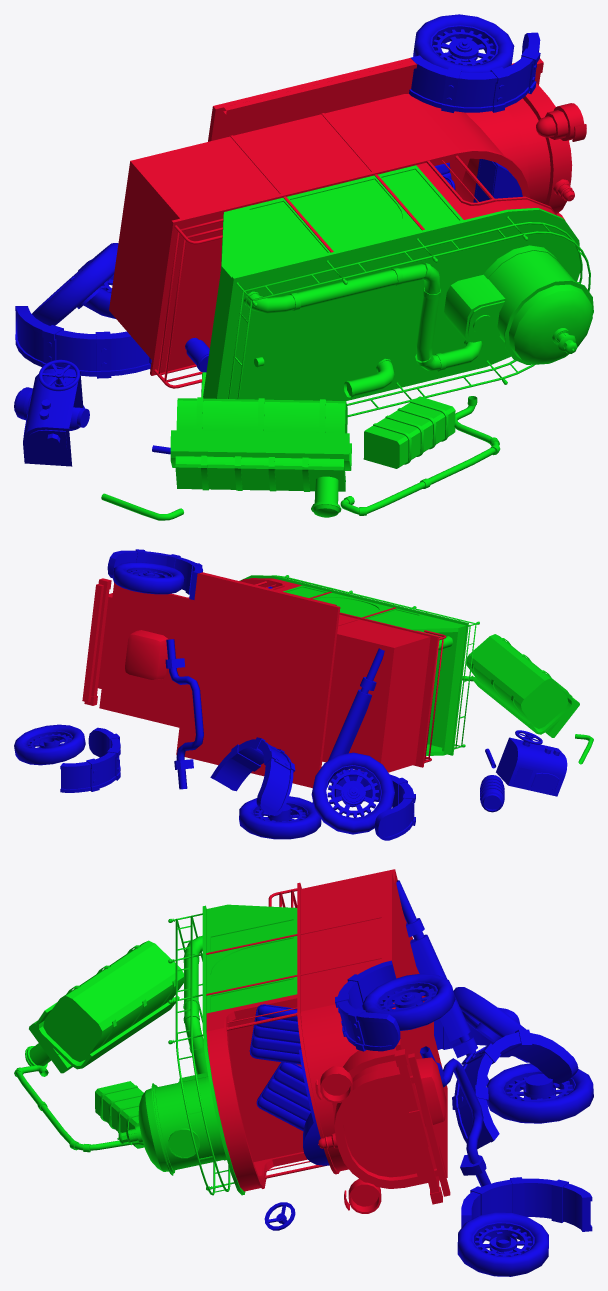
Rendered from SM_town_vehicle_FLIP.fbx.
3 renders of one model, top to bottom at view 1: azimuth 30°, elevation 25°; view 2: azimuth 150°, elevation 25°; view 3: azimuth 270°, elevation 25°, orthographic. The views are drawn at different scales.
Parts seen in each view (by area): view 1: Top_bot_low, main_legs_low, bot_low; view 2: main_legs_low, bot_low, Top_bot_low; view 3: main_legs_low, bot_low, Top_bot_low.
Boxes of the visible parts, x1,y1,x2,y2 form: Top_bot_low: (101,165,593,520); main_legs_low: (109,58,586,388); bot_low: (14,14,540,466); main_legs_low: (82,572,446,788); bot_low: (14,549,567,840); Top_bot_low: (239,575,593,764); main_legs_low: (206,869,450,1213); bot_low: (249,880,593,1276); Top_bot_low: (14,904,297,1195).
Size of the model in its own units: 640 by 252 by 539.
